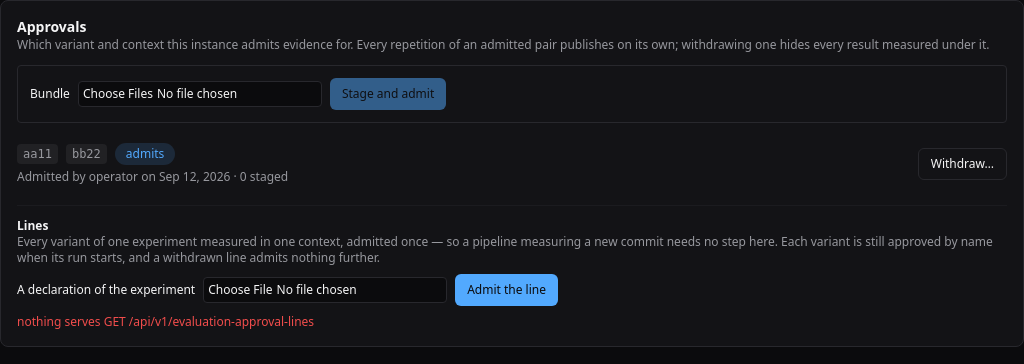
Test: asks before withdrawing, because withdrawal hides every result of the pair
The image size is (1024, 364).
Click the button "Withdraw…" at [962, 164], box [918,148,1007,180]
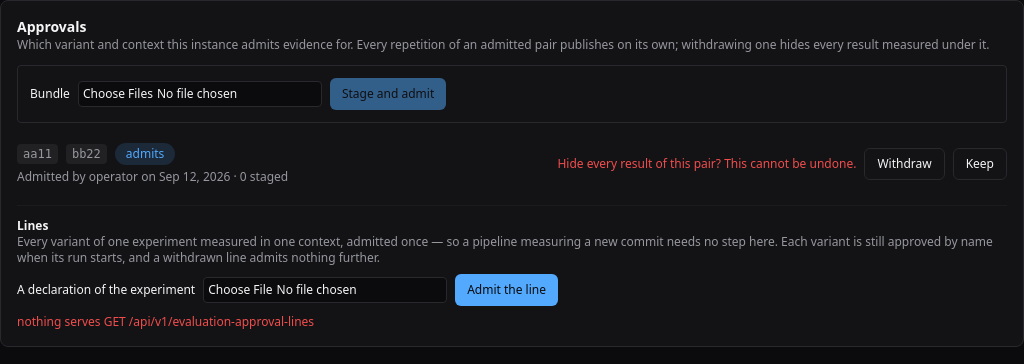
Now the text "Hide every result of this pair? This cannot be undone." is shown, box [557,156,856,172]
# And backing out is a button of its own rather than a reload.
Click the button "Keep" at [980, 164], box [953,148,1007,180]
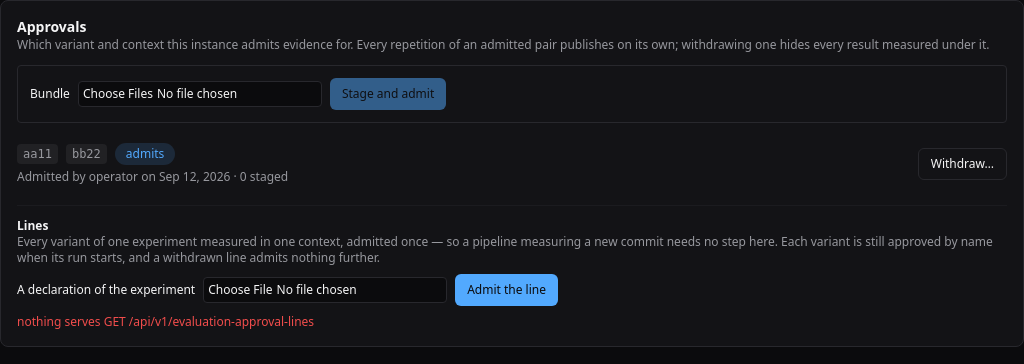
Now the text "cannot be undone" is gone
